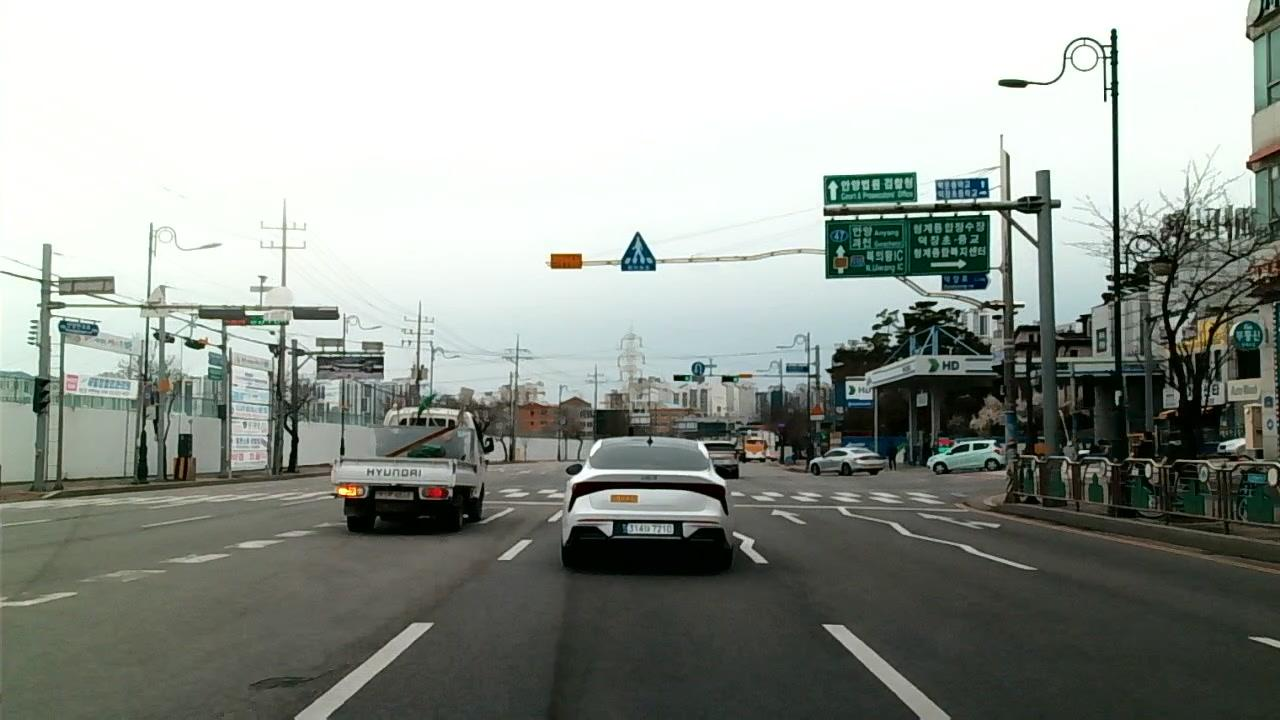banner: (238, 662, 349, 697)
